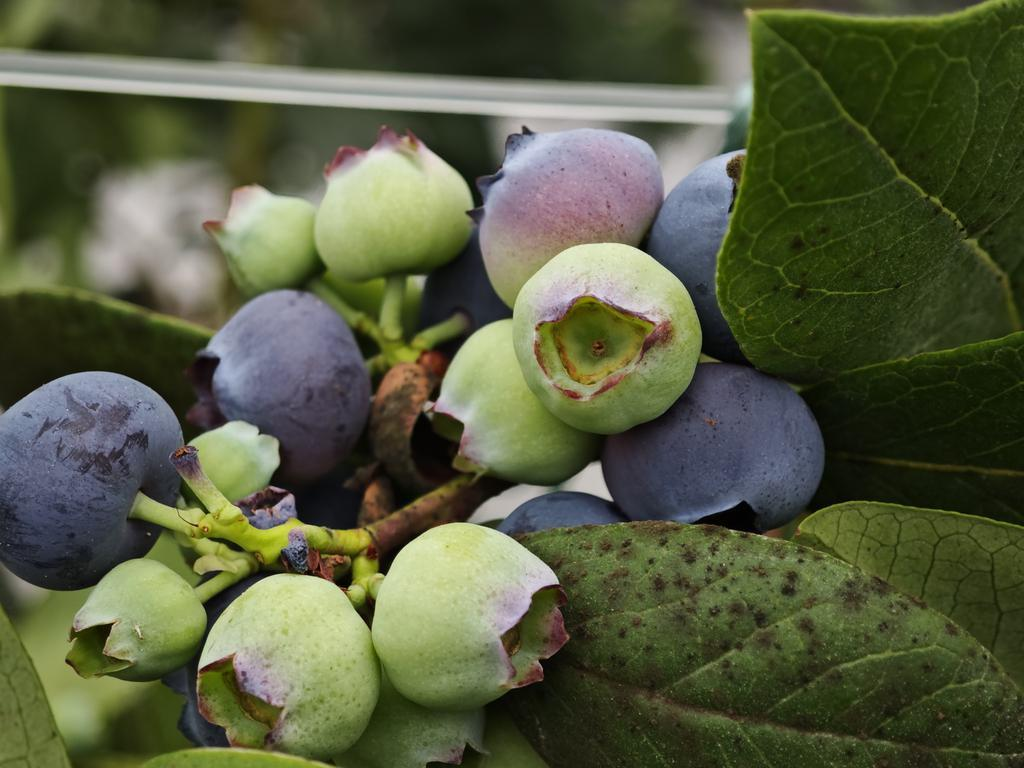RipeBlueBerry: (1, 367, 187, 598), (208, 289, 370, 466)
Semi-RipeBlueBerry: (486, 121, 666, 291), (321, 146, 482, 280)
UnripeBlueBerry: (514, 241, 706, 436), (378, 518, 562, 706), (200, 574, 380, 757)
